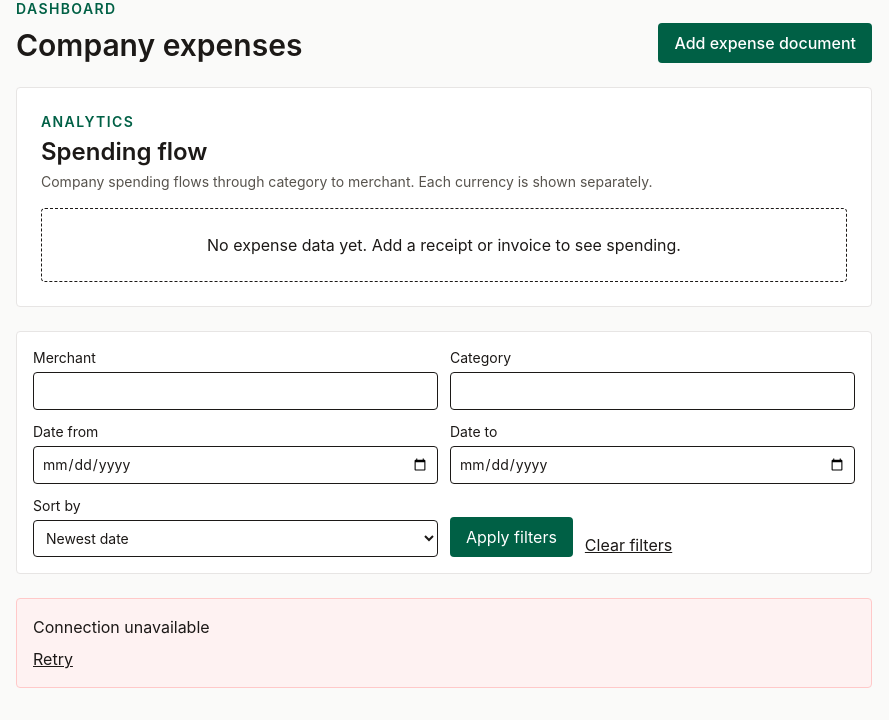
receipt screens › shows a retryable API error
(page scrolled)
Expected: the message shows "Connection unavailable", left=33, top=617, right=210, bottom=637
Click the button "Retry" at (53, 659), box left=33, top=647, right=73, bottom=671
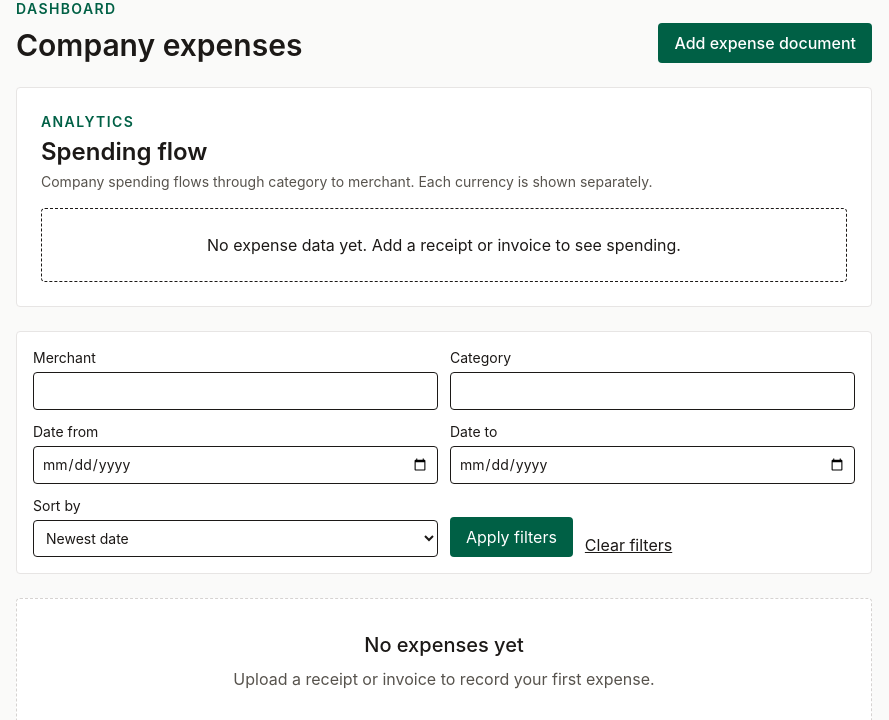
Result: the heading "No expenses yet" is shown at left=364, top=633, right=524, bottom=657
